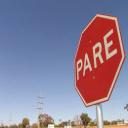Pare: (74, 14, 126, 106)
